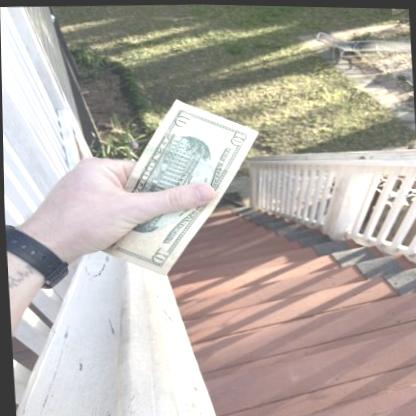ten-back: (94, 99, 259, 275)
